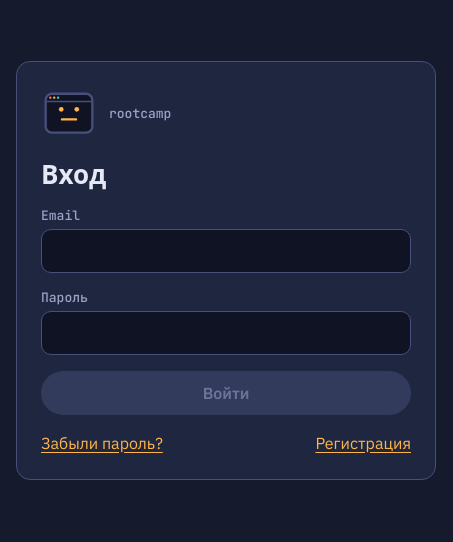
Test: Login › names a 429 wait over a minute in minutes
The width and height of the screenshot is (453, 542).
Type "neo@example.com" into the field labelled "Email" at (226, 250), box [41,228,411,272]
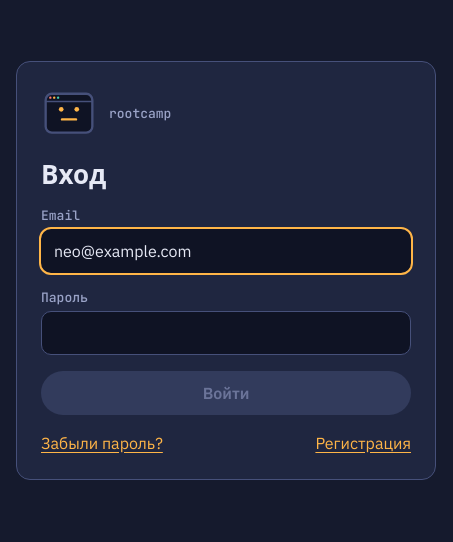
Type "correct-horse" into the password field labelled "Пароль" at (226, 332), box [41,310,411,354]
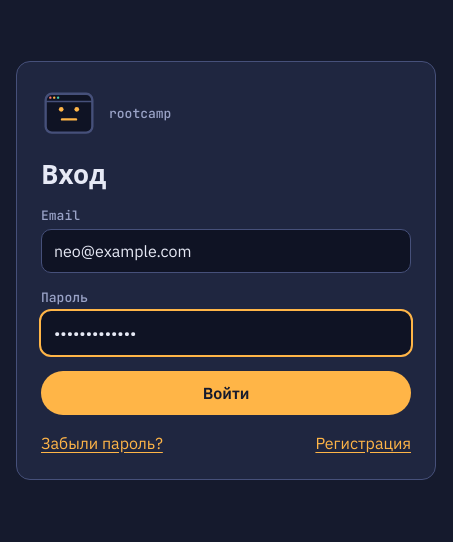
Click the button "Войти" at (226, 392), box [41,370,411,414]
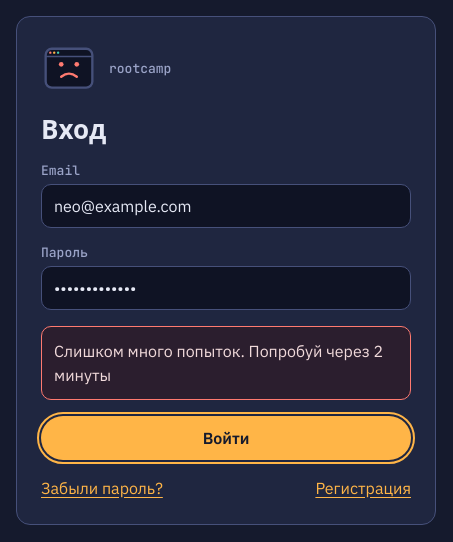
Result: the message reads "Слишком много попыток. Попробуй через 2 минуты" at [54,340,383,384]
